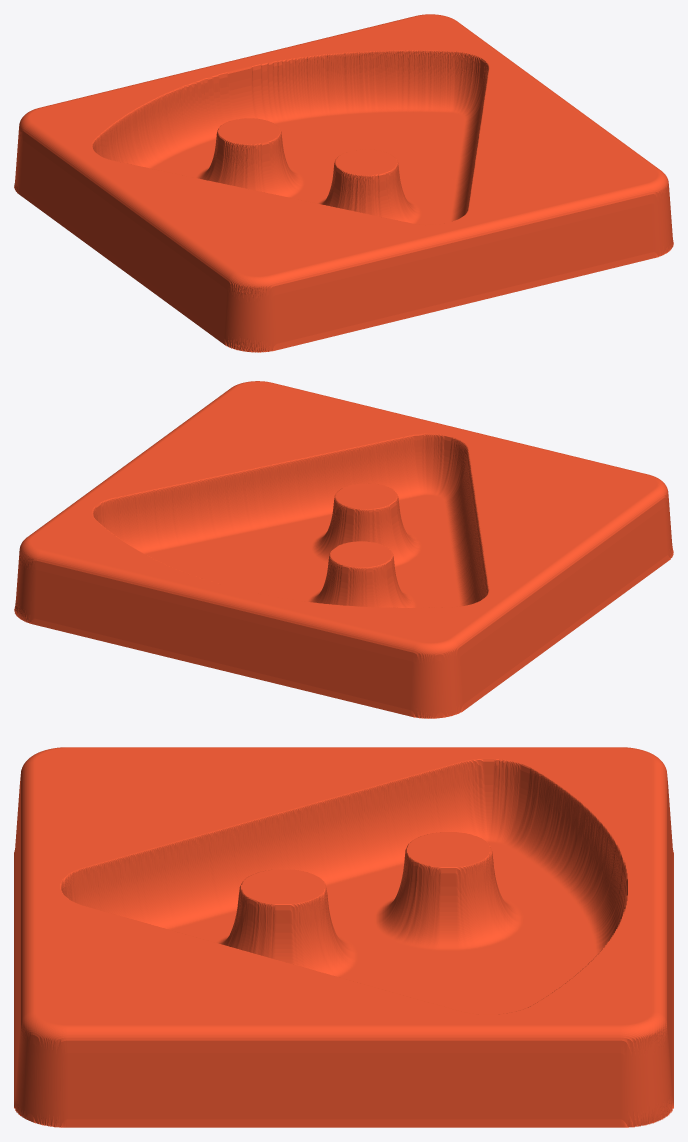
The model's file is mold.glb.
3 views of the same model, one above another, from view 1: azimuth 30°, elevation 25°; view 2: azimuth 150°, elevation 25°; view 3: azimuth 270°, elevation 25° (orthographic). The views are drawn at different scales.
Parts seen in each view (by area): view 1: geometry_0; view 2: geometry_0; view 3: geometry_0.
Boxes of the visible parts, x1,y1,x2,y2 form: geometry_0: [14, 14, 673, 352]; geometry_0: [14, 381, 673, 718]; geometry_0: [14, 747, 673, 1127].
Size of the model in its own units: 0.1178 by 0.0175 by 0.1116.
